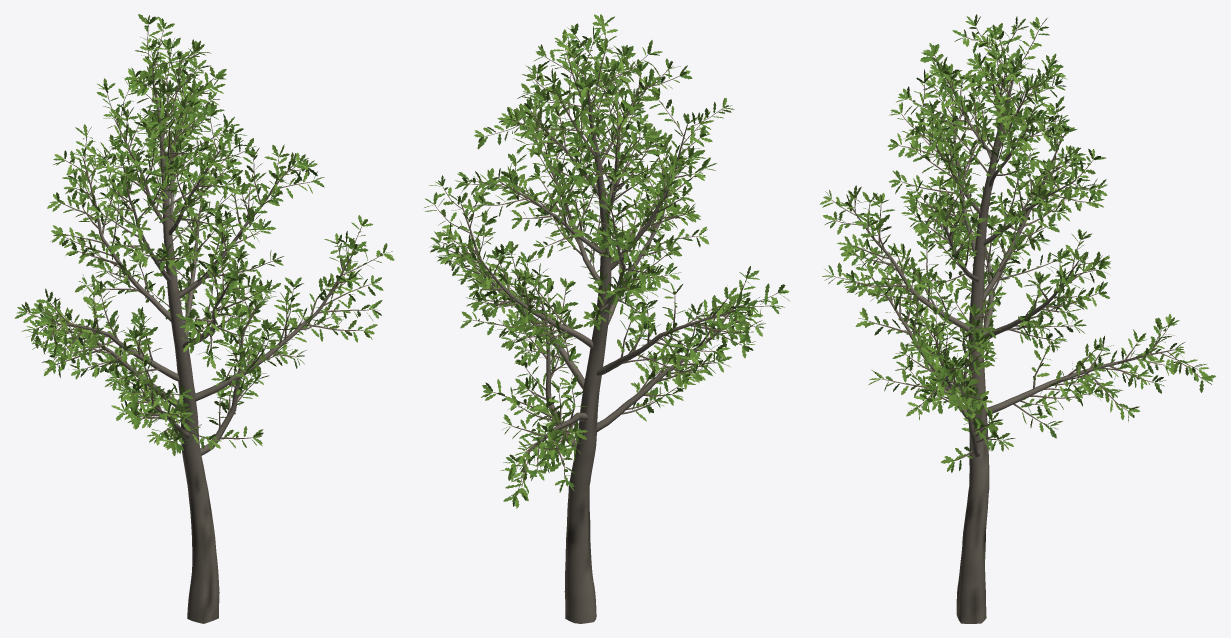
Rendered from oak_young.glb.
3 renders of one model, left to right at view 1: azimuth 30°, elevation 25°; view 2: azimuth 150°, elevation 25°; view 3: azimuth 270°, elevation 25°, orthographic. The views are drawn at different scales.
Parts seen in each view (by area): view 1: oak_young; view 2: oak_young; view 3: oak_young.
Boxes of the visible parts, <box> form: oak_young: <box>14,14,394,623</box>; oak_young: <box>424,14,790,623</box>; oak_young: <box>819,14,1215,623</box>.
Bounding box in the file's own units: 4.41 × 7.17 × 4.35.
